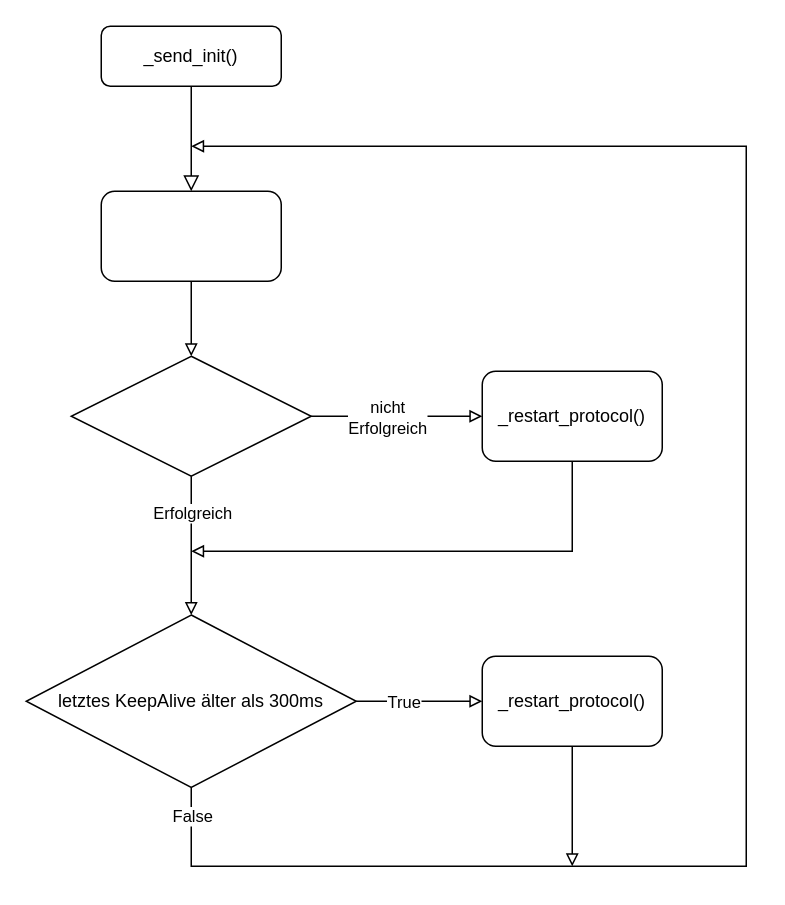
The diagram is 785 pixels wide and 905 high, and some of its shapes have lost their labels. Here are the shapes that lost their labels. From the top down, the centre of each, then its label:
point (190, 235): _send_keep_alive()
point (190, 415): _interpret_receive()
